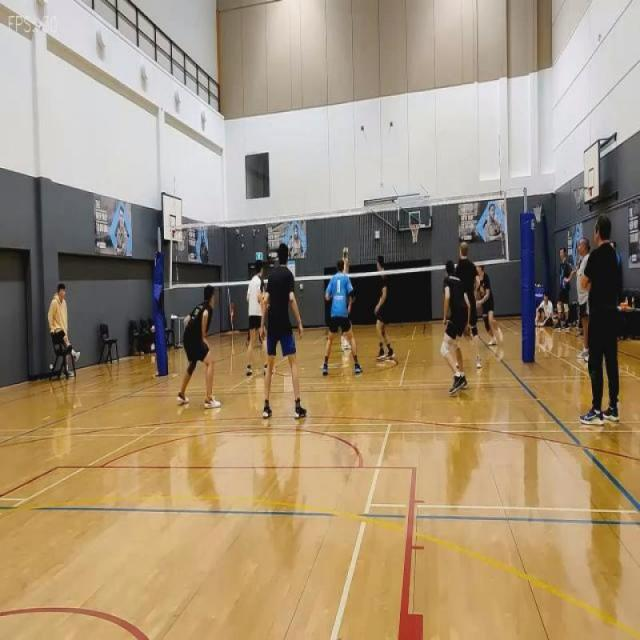volleyball: (342, 246, 348, 258)
